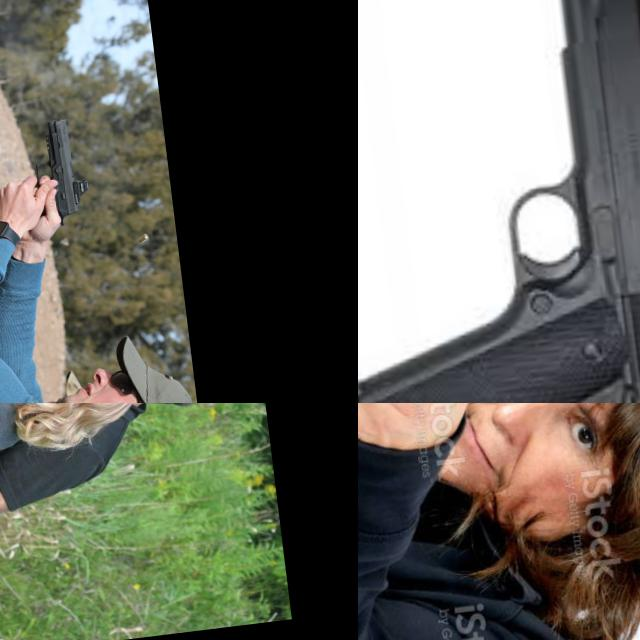handgun: (358, 0, 640, 403), (378, 403, 543, 454), (28, 114, 93, 228), (0, 403, 46, 438)
